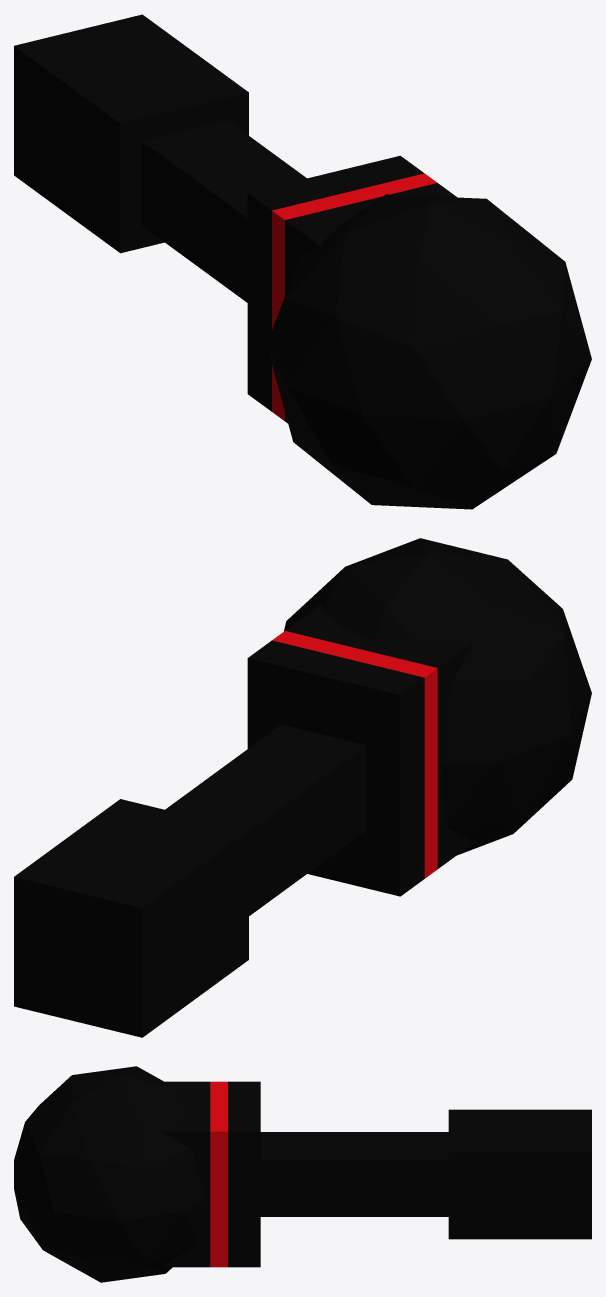
Rendered from Boss_TurretJet_GunTurret.fbx.
The picture shows the model from 3 angles, top to bottom: view 1: azimuth 30°, elevation 25°; view 2: azimuth 150°, elevation 25°; view 3: azimuth 270°, elevation 25°; orthographic projection. The views are drawn at different scales.
Parts seen in each view (by area): view 1: Icosphere, Cube; view 2: Cube, Icosphere; view 3: Cube, Icosphere.
Boxes of the visible parts, box(x1,y1,x2,y2) form: Icosphere: box(266, 194, 591, 509); Cube: box(14, 14, 457, 423); Cube: box(14, 604, 474, 1037); Icosphere: box(284, 538, 591, 855); Cube: box(161, 1081, 591, 1267); Icosphere: box(14, 1066, 205, 1282).
Size of the model in its own units: 200 by 200 by 524.
